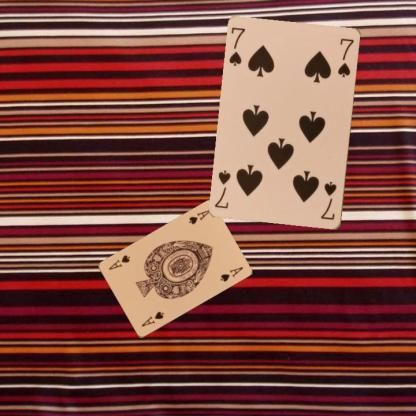7s: (226, 24, 247, 67), (318, 179, 338, 221)
As: (139, 309, 165, 328), (186, 208, 212, 226)
